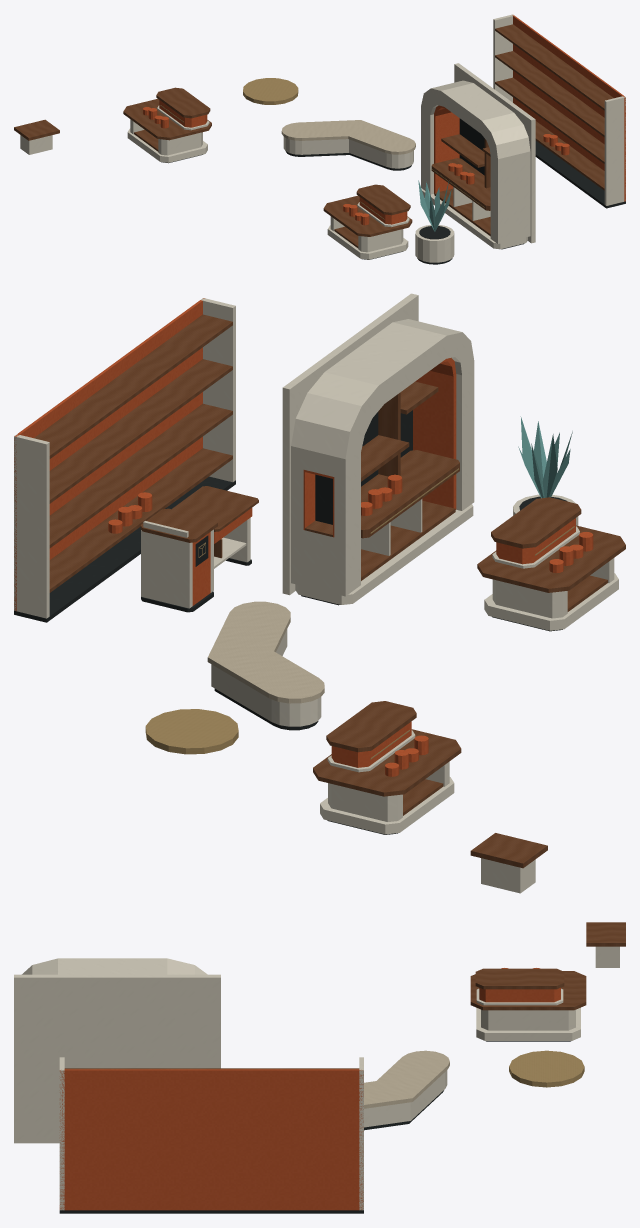
The model's file is SHOP_D09_P72_F392__fitout.glb.
The picture shows the model from 3 angles, top to bottom: view 1: azimuth 30°, elevation 25°; view 2: azimuth 150°, elevation 25°; view 3: azimuth 270°, elevation 25°; orthographic projection. The views are drawn at different scales.
Parts seen in each view (by area): view 1: SHOP_D09_P72_F392__fitout__ivory_enamel, SHOP_D09_P72_F392__fitout__warm_walnut, SHOP_D09_P72_F392__fitout__retail_terracotta_enamel, SHOP_D09_P72_F392__fitout__oatmeal_weave, SHOP_D09_P72_F392__fitout__dark_rubber, SHOP_D09_P72_F392__fitout__champagne_metal, SHOP_D09_P72_F392__fitout__quiet_teal; view 2: SHOP_D09_P72_F392__fitout__ivory_enamel, SHOP_D09_P72_F392__fitout__warm_walnut, SHOP_D09_P72_F392__fitout__retail_terracotta_enamel, SHOP_D09_P72_F392__fitout__oatmeal_weave, SHOP_D09_P72_F392__fitout__dark_rubber, SHOP_D09_P72_F392__fitout__champagne_metal, SHOP_D09_P72_F392__fitout__quiet_teal; view 3: SHOP_D09_P72_F392__fitout__retail_terracotta_enamel, SHOP_D09_P72_F392__fitout__ivory_enamel, SHOP_D09_P72_F392__fitout__warm_walnut, SHOP_D09_P72_F392__fitout__oatmeal_weave, SHOP_D09_P72_F392__fitout__champagne_metal, SHOP_D09_P72_F392__fitout__dark_rubber.
Boxes of the visible parts, left/top/right/bottom form: SHOP_D09_P72_F392__fitout__ivory_enamel: left=20, top=14, right=625, bottom=262; SHOP_D09_P72_F392__fitout__warm_walnut: left=14, top=24, right=613, bottom=248; SHOP_D09_P72_F392__fitout__retail_terracotta_enamel: left=143, top=15, right=625, bottom=225; SHOP_D09_P72_F392__fitout__oatmeal_weave: left=281, top=120, right=415, bottom=154; SHOP_D09_P72_F392__fitout__dark_rubber: left=161, top=118, right=625, bottom=264; SHOP_D09_P72_F392__fitout__champagne_metal: left=160, top=78, right=484, bottom=219; SHOP_D09_P72_F392__fitout__quiet_teal: left=418, top=180, right=451, bottom=231; SHOP_D09_P72_F392__fitout__ivory_enamel: left=14, top=293, right=618, bottom=893; SHOP_D09_P72_F392__fitout__warm_walnut: left=34, top=314, right=625, bottom=868; SHOP_D09_P72_F392__fitout__retail_terracotta_enamel: left=14, top=298, right=593, bottom=776; SHOP_D09_P72_F392__fitout__oatmeal_weave: left=207, top=601, right=324, bottom=703; SHOP_D09_P72_F392__fitout__dark_rubber: left=14, top=410, right=567, bottom=834; SHOP_D09_P72_F392__fitout__champagne_metal: left=145, top=468, right=574, bottom=759; SHOP_D09_P72_F392__fitout__quiet_teal: left=518, top=416, right=572, bottom=498; SHOP_D09_P72_F392__fitout__retail_terracotta_enamel: left=59, top=968, right=560, bottom=1210; SHOP_D09_P72_F392__fitout__ivory_enamel: left=14, top=946, right=619, bottom=1210; SHOP_D09_P72_F392__fitout__warm_walnut: left=64, top=922, right=625, bottom=1069; SHOP_D09_P72_F392__fitout__oatmeal_weave: left=364, top=1050, right=449, bottom=1108; SHOP_D09_P72_F392__fitout__champagne_metal: left=509, top=1050, right=584, bottom=1087; SHOP_D09_P72_F392__fitout__dark_rubber: left=59, top=1041, right=570, bottom=1213.
Size of the model in its own units: 10.25 by 3 by 10.05.
7 materials, 6 textured.
